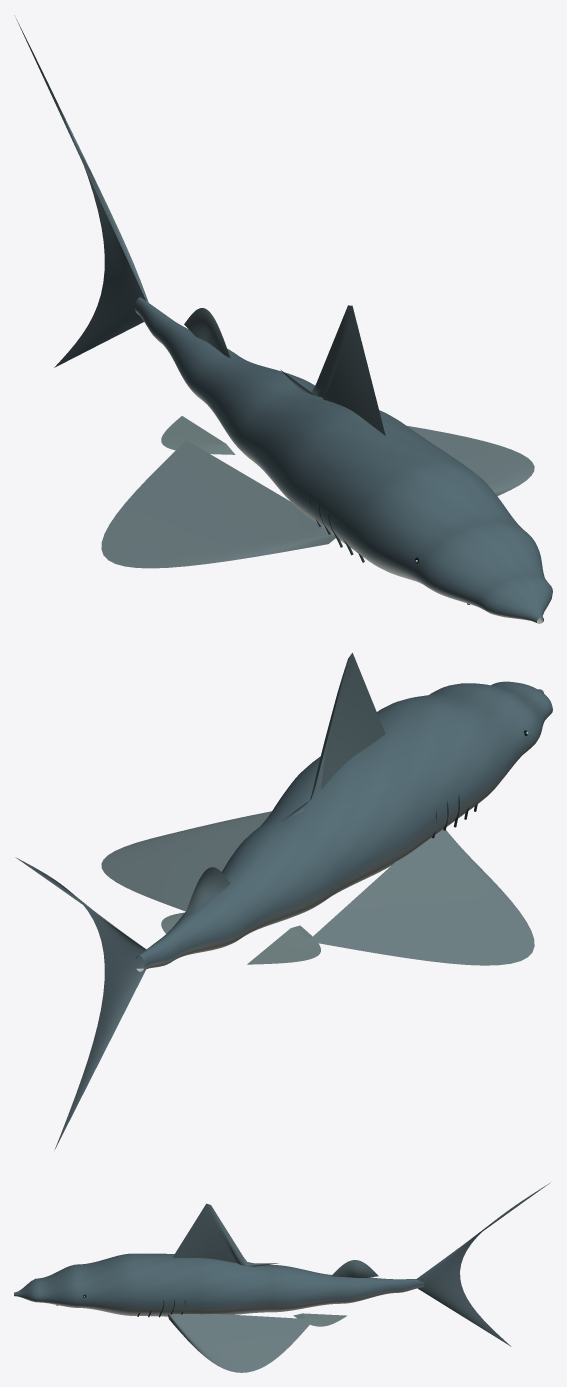
The model's file is shark.glb.
3 renders of one model, top to bottom at view 1: azimuth 30°, elevation 25°; view 2: azimuth 150°, elevation 25°; view 3: azimuth 270°, elevation 25°, orthographic. The views are drawn at different scales.
Parts seen in each view (by area): view 1: Ocean Slice shark; view 2: Ocean Slice shark; view 3: Ocean Slice shark.
Part boxes in pixels (x1=…): Ocean Slice shark: x1=14, y1=15, x2=552, y2=623; Ocean Slice shark: x1=15, y1=653, x2=552, y2=1149; Ocean Slice shark: x1=14, y1=1182, x2=550, y2=1372.
Bounding box in the file's own units: 1.04 × 0.77 × 2.26.
